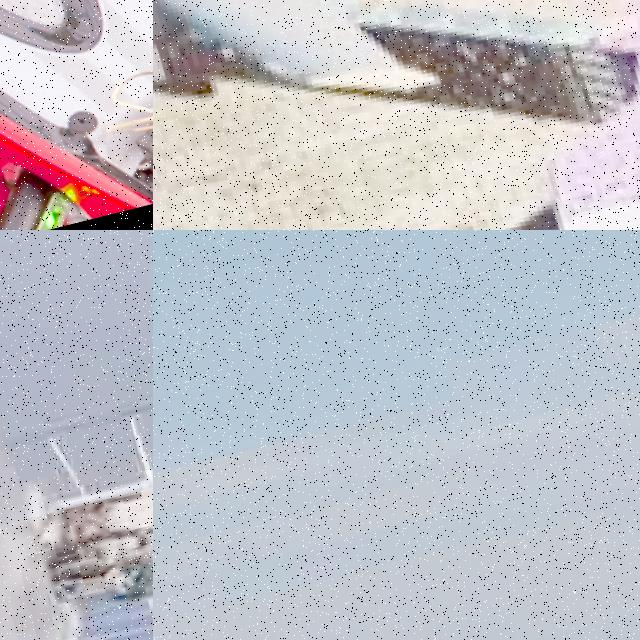drone: (153, 0, 640, 230), (0, 0, 153, 230)
